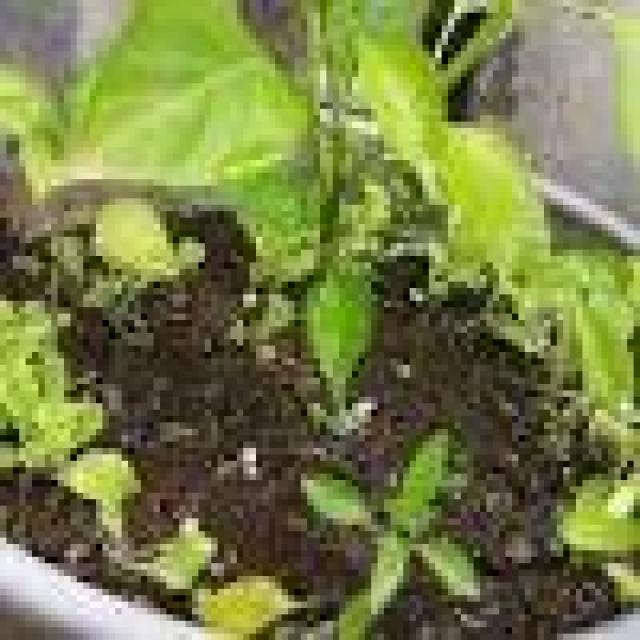Rust: (0, 0, 640, 614)
